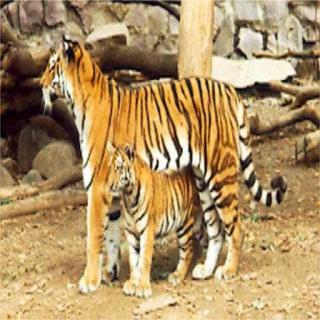Tiger: (32, 28, 272, 286), (87, 138, 211, 299)
